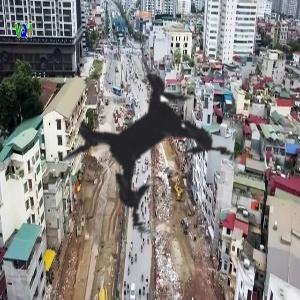drone: (12, 6, 293, 287)
